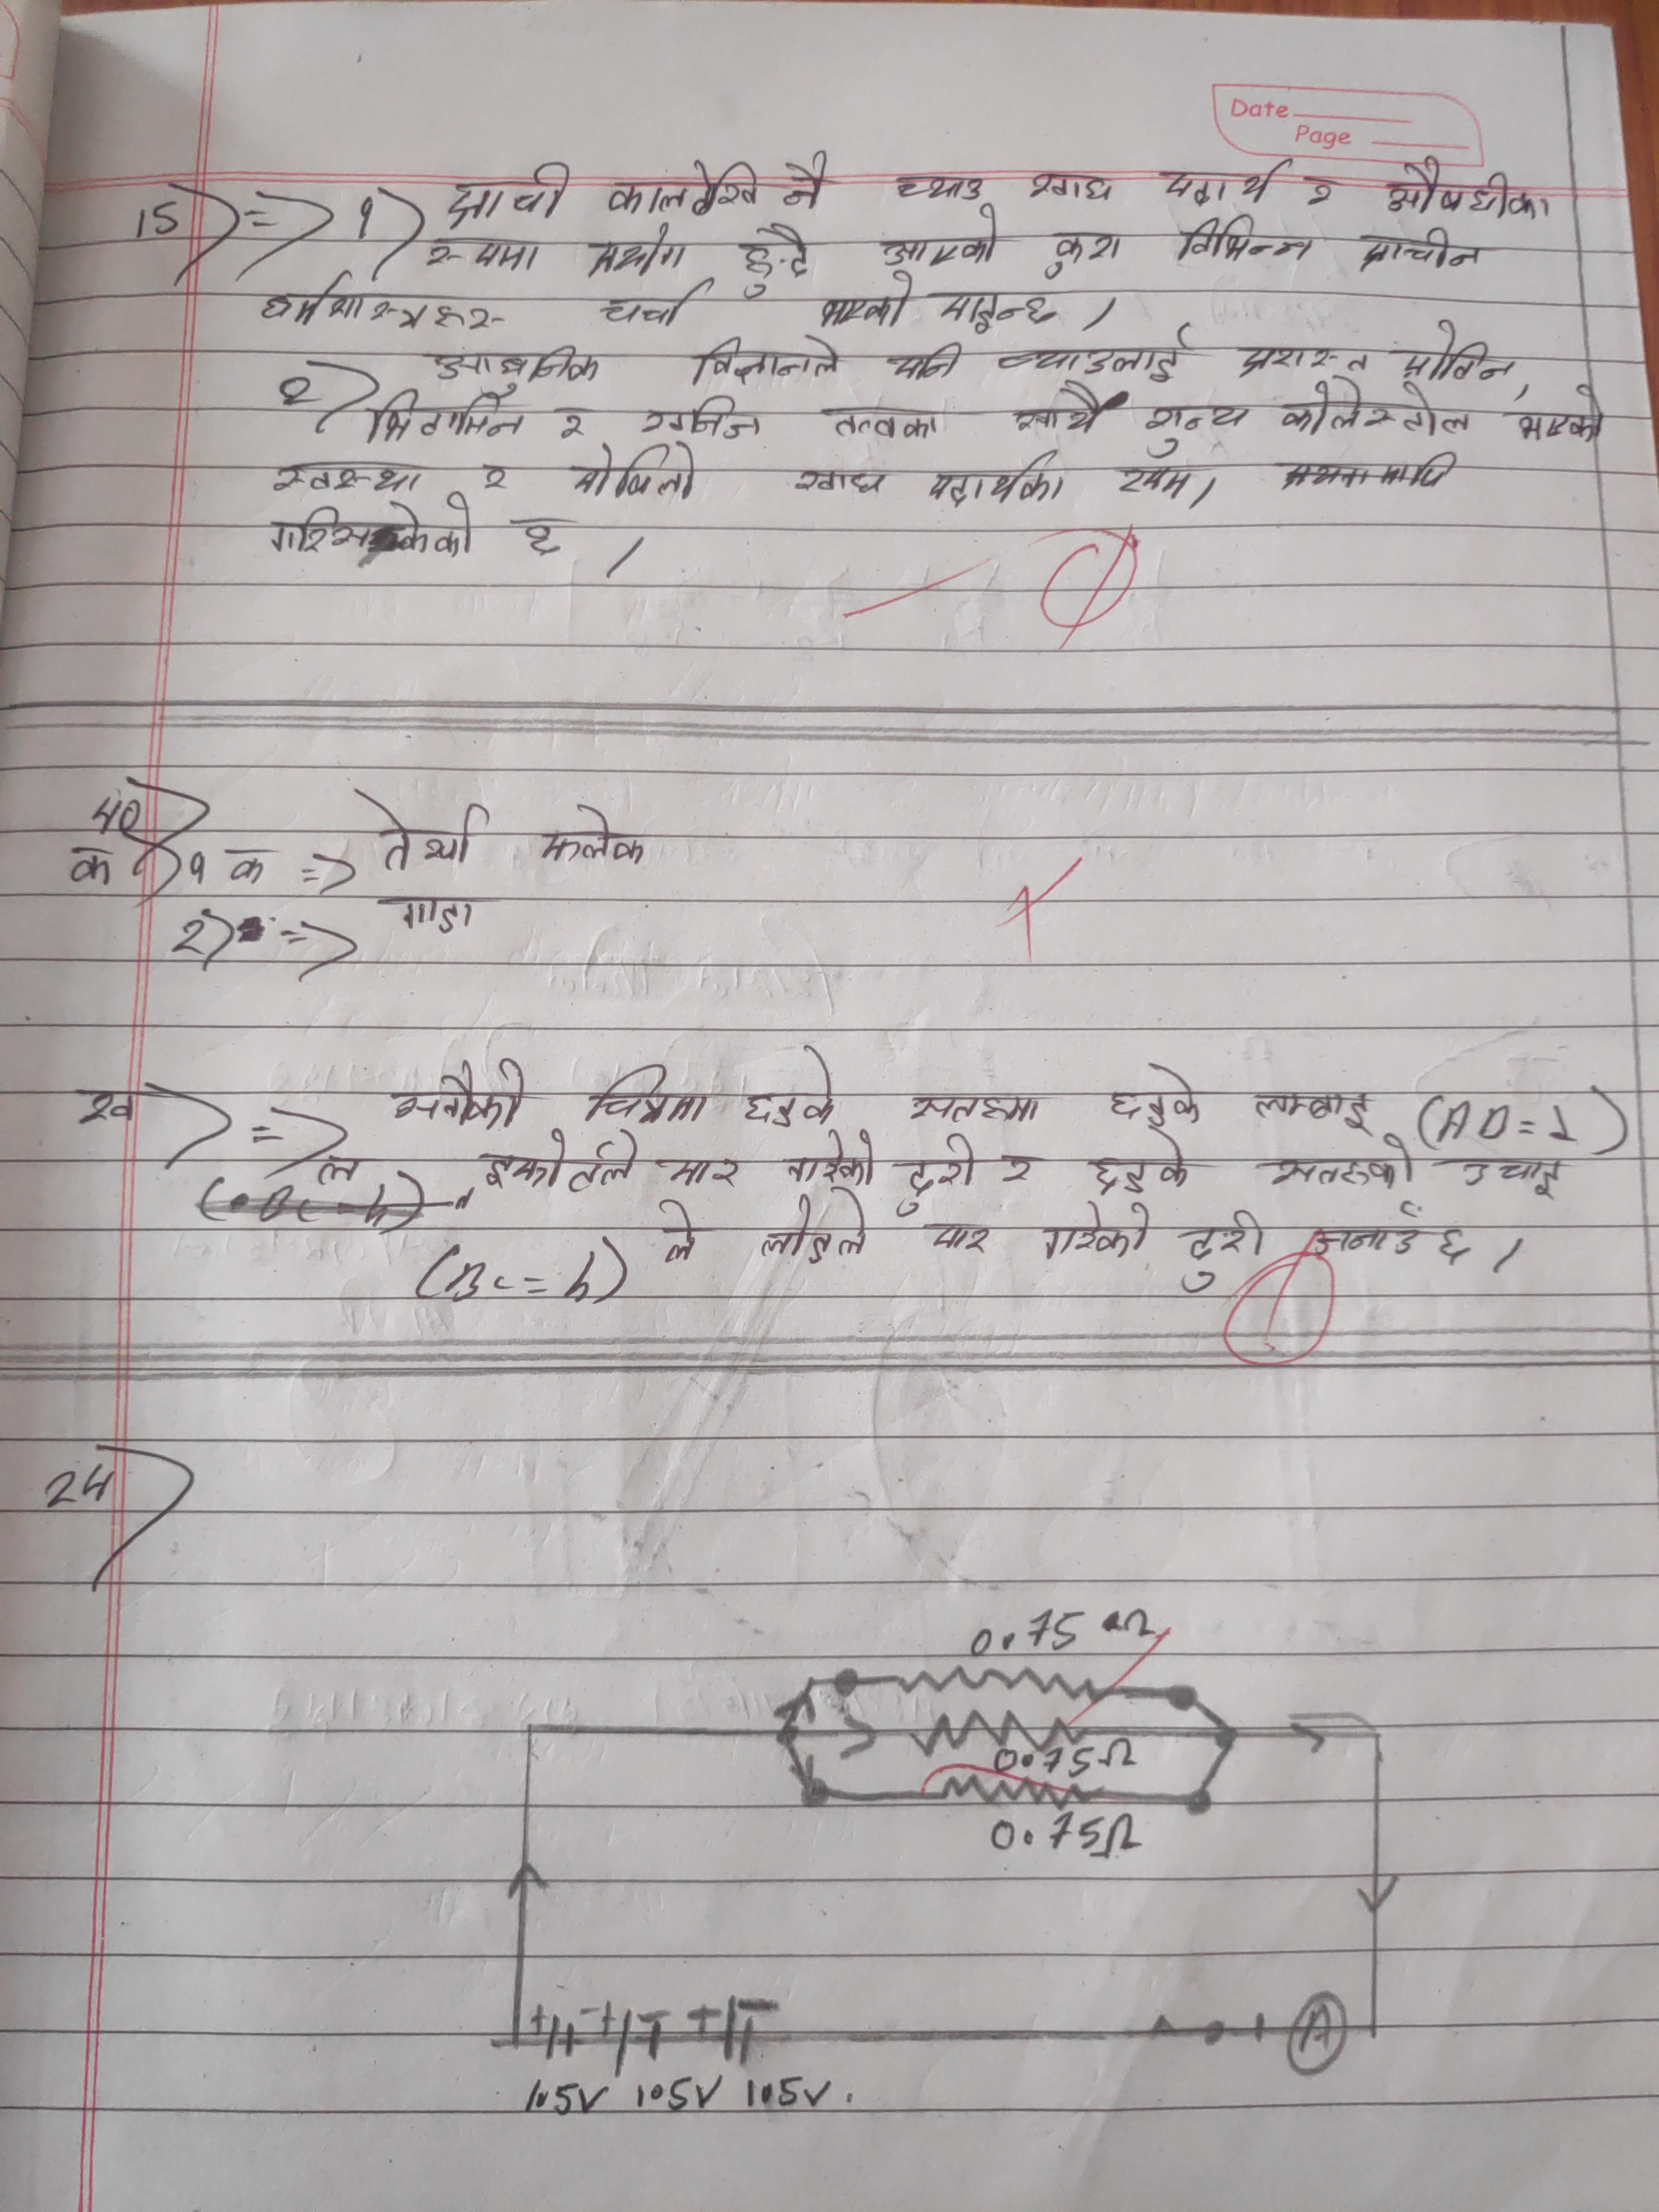text: (260, 272, 511, 334), (267, 498, 483, 561), (995, 326, 1202, 388), (1270, 378, 1469, 441), (1310, 1198, 1478, 1271), (359, 786, 491, 876), (1384, 157, 1554, 226), (476, 1127, 641, 1195), (366, 385, 526, 451), (390, 1059, 532, 1130), (599, 158, 763, 219), (1258, 1130, 1412, 1195), (429, 341, 603, 397), (443, 158, 572, 232), (690, 331, 843, 392), (924, 449, 1068, 509), (756, 1186, 868, 1261), (741, 1045, 842, 1127), (1175, 211, 1319, 266), (586, 1064, 709, 1129), (570, 442, 699, 503), (1157, 153, 1297, 209), (1178, 1211, 1265, 1298), (870, 214, 1006, 270), (1040, 1198, 1154, 1264), (538, 803, 650, 869), (1140, 395, 1256, 458), (1401, 320, 1514, 383), (1091, 1129, 1192, 1198), (1358, 228, 1492, 280), (897, 1134, 979, 1217), (270, 460, 430, 502), (814, 270, 915, 336), (638, 394, 767, 444), (1110, 1061, 1206, 1129), (1504, 385, 1614, 444), (1244, 1089, 1377, 1137), (1117, 462, 1223, 519), (587, 221, 687, 282), (735, 221, 810, 300), (931, 287, 1054, 334), (910, 1085, 1047, 1127), (784, 1129, 878, 1190), (1011, 381, 1105, 441), (1229, 343, 1373, 381), (1455, 1158, 1570, 1205), (380, 888, 498, 934), (594, 282, 716, 326), (1039, 226, 1133, 282), (821, 406, 948, 444), (425, 239, 545, 279), (894, 165, 986, 207), (652, 1198, 706, 1270), (887, 340, 964, 387), (791, 467, 892, 502), (505, 514, 579, 561), (779, 152, 835, 211), (1025, 167, 1114, 202), (924, 1216, 993, 1258), (669, 1157, 741, 1190), (995, 1153, 1049, 1191), (554, 404, 598, 448), (1305, 172, 1342, 214), (476, 460, 511, 493)
